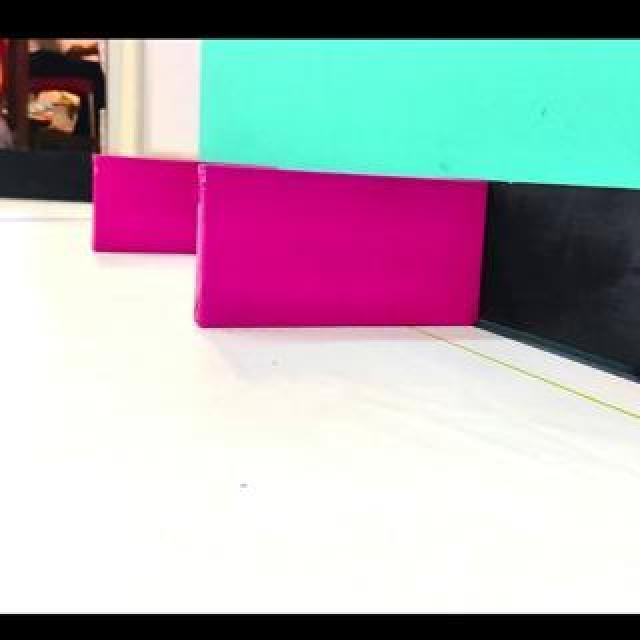xparking: (198, 170, 483, 331), (97, 163, 197, 253)
